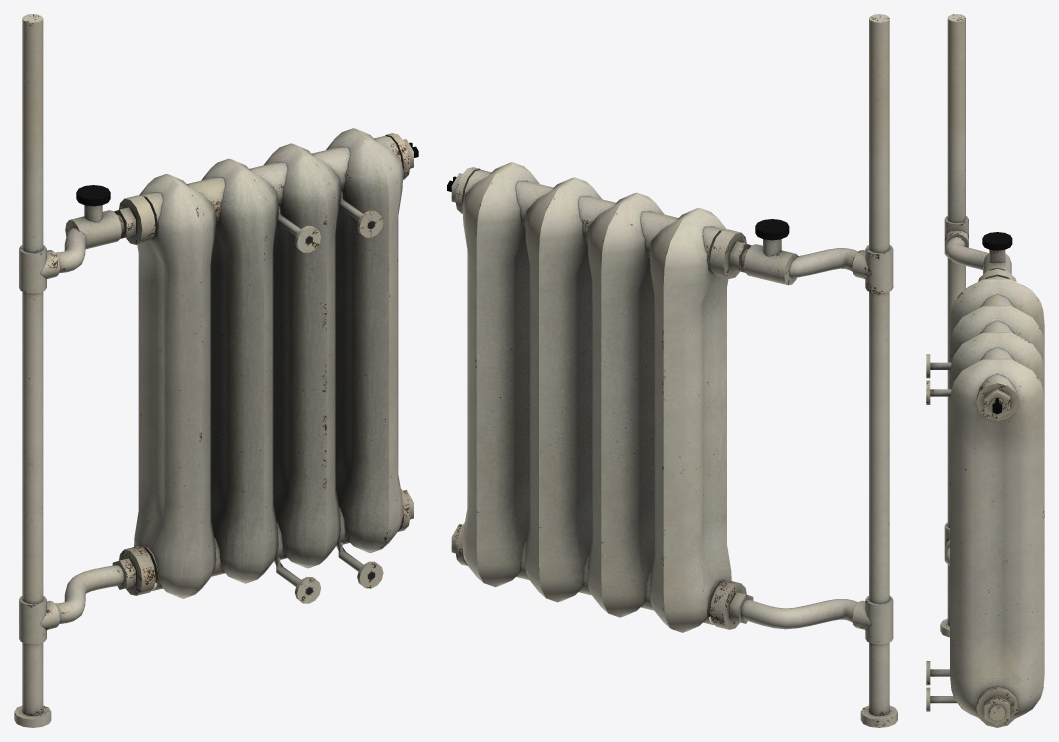
The model's file is rad_4_short_web.glb.
The picture shows the model from 3 angles, left to right: view 1: azimuth 30°, elevation 25°; view 2: azimuth 150°, elevation 25°; view 3: azimuth 270°, elevation 25°; orthographic projection. The views are drawn at different scales.
Visible parts, largest first — view 1: Rad4Short_Body; view 2: Rad4Short_Body; view 3: Rad4Short_Body.
Part boxes in pixels (x1,y1,x2,y2): Rad4Short_Body: (14,14,418,727); Rad4Short_Body: (447,14,897,727); Rad4Short_Body: (926,14,1044,727).
Bounding box in the file's own units: 0.63 × 1 × 0.175.
1 material, 1 textured.
